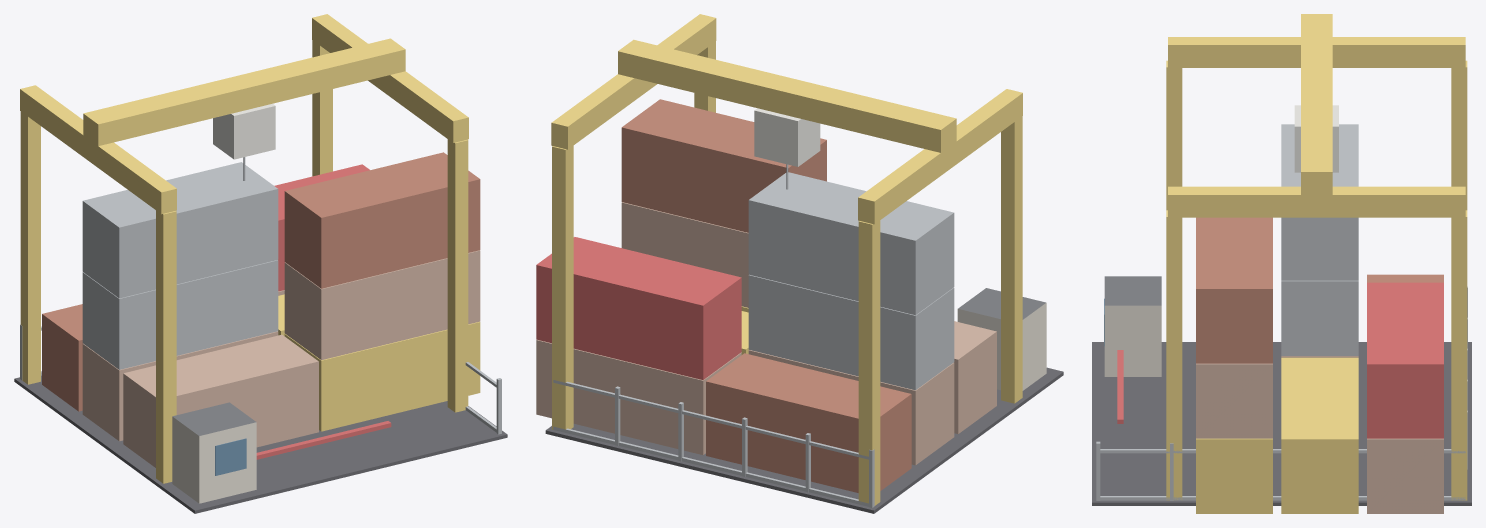
3 renders of one model, left to right at view 1: azimuth 30°, elevation 25°; view 2: azimuth 150°, elevation 25°; view 3: azimuth 270°, elevation 25°, orthographic. The views are drawn at different scales.
Visible parts, largest first — view 1: i_1_1_d; view 2: i_1_1_d; view 3: i_1_1_d.
Boxes of the visible parts, box(x1,y1,x2,y2) form: i_1_1_d: box(14, 14, 507, 513); i_1_1_d: box(536, 14, 1063, 513); i_1_1_d: box(1092, 14, 1471, 513).
Size of the model in its own units: 12.85 by 11.6 by 12.
